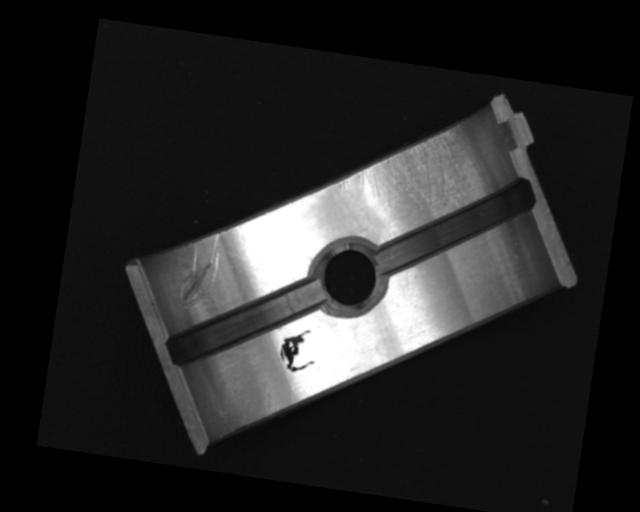blot: (276, 319, 321, 376)
gap: (373, 158, 538, 294), (163, 260, 327, 384)
hole: (304, 233, 393, 322)
nick: (172, 225, 223, 314)
scratch: (335, 108, 497, 225)
